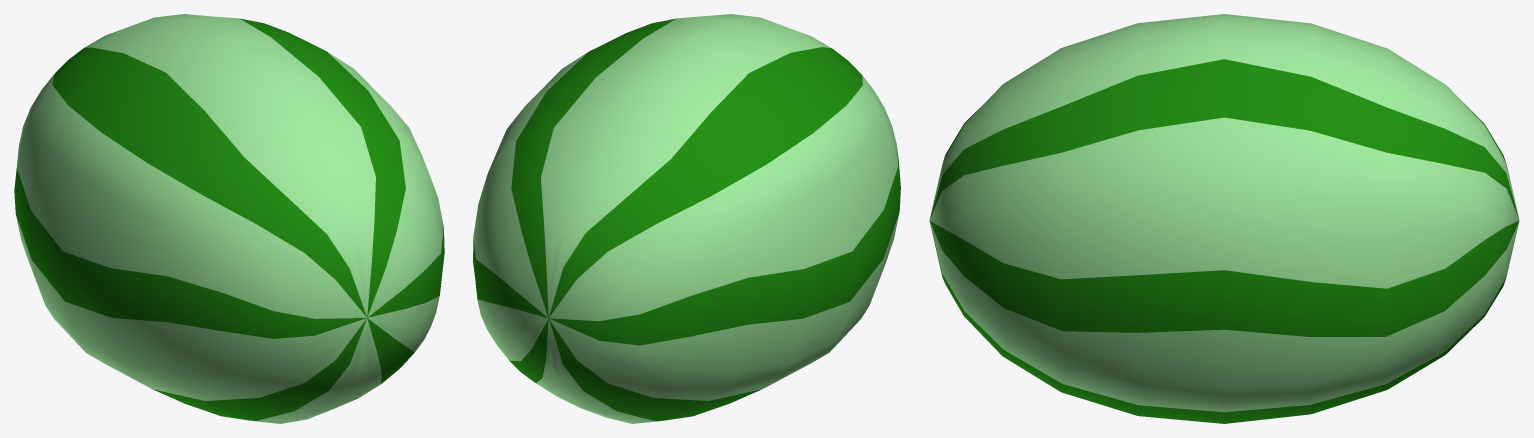
Rendered from Watermelon.fbx.
3 views of the same model, side by side, from view 1: azimuth 30°, elevation 25°; view 2: azimuth 150°, elevation 25°; view 3: azimuth 270°, elevation 25° (orthographic). The views are drawn at different scales.
Visible parts, largest first — view 1: Watermelon; view 2: Watermelon; view 3: Watermelon.
Boxes of the visible parts, bbox=[...] form: Watermelon: bbox=[14, 14, 444, 423]; Watermelon: bbox=[473, 14, 900, 423]; Watermelon: bbox=[929, 14, 1519, 423].
Bounding box in the file's own units: 361 × 368 × 510.
